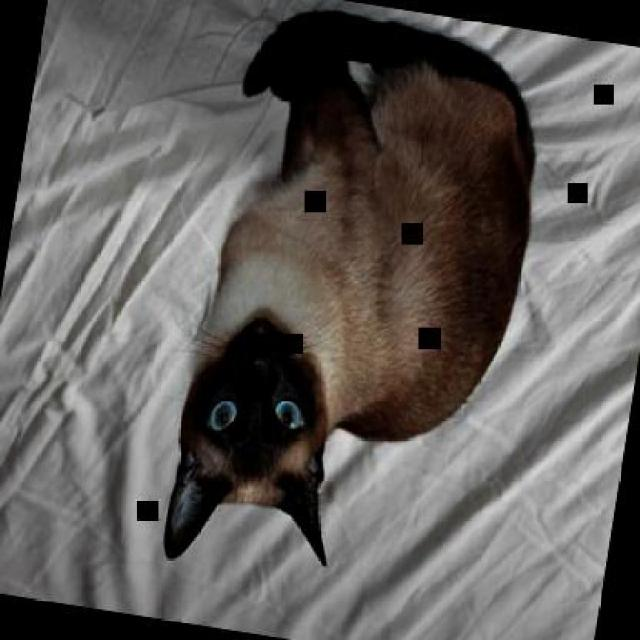cat: (155, 0, 560, 611)
